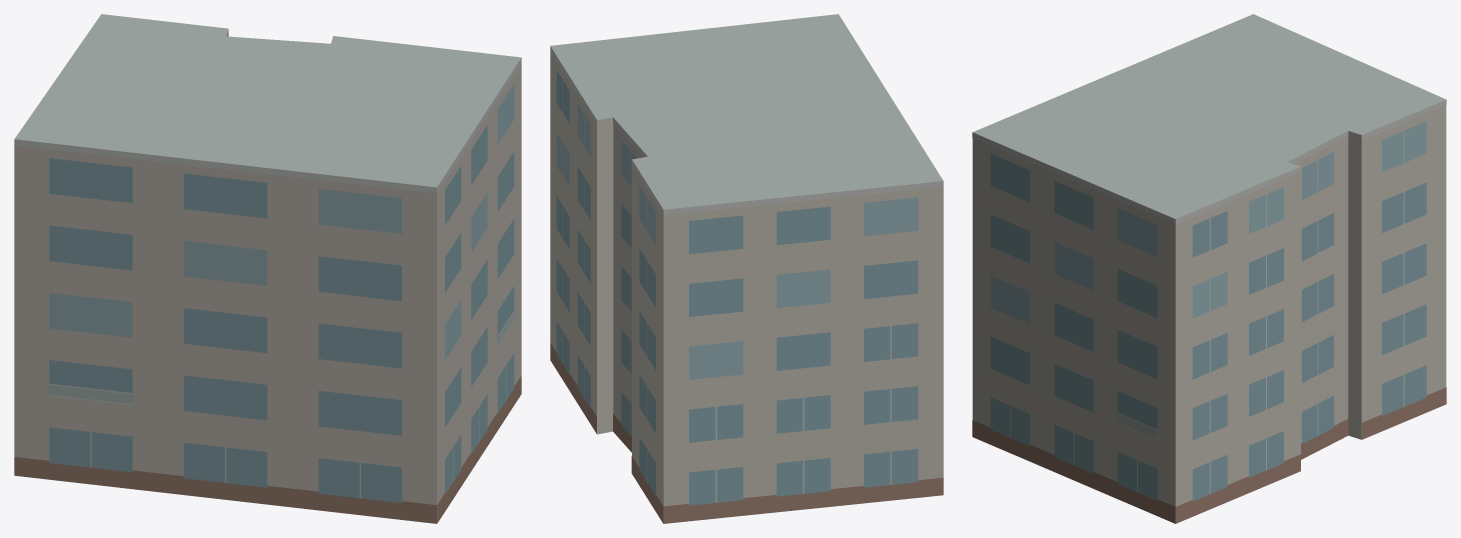
File: survey-upis-32952069.glb
3 renders of one model, left to right at view 1: azimuth 30°, elevation 25°; view 2: azimuth 150°, elevation 25°; view 3: azimuth 270°, elevation 25°, orthographic. The views are drawn at different scales.
Parts seen in each view (by area): view 1: survey-upis-32952069.tmp; view 2: survey-upis-32952069.tmp; view 3: survey-upis-32952069.tmp.
Boxes of the visible parts, x1,y1,x2,y2 form: survey-upis-32952069.tmp: (14, 14, 521, 523); survey-upis-32952069.tmp: (550, 14, 943, 523); survey-upis-32952069.tmp: (972, 14, 1446, 523).
Bounding box in the file's own units: 19.21 × 13.3 × 18.75.
